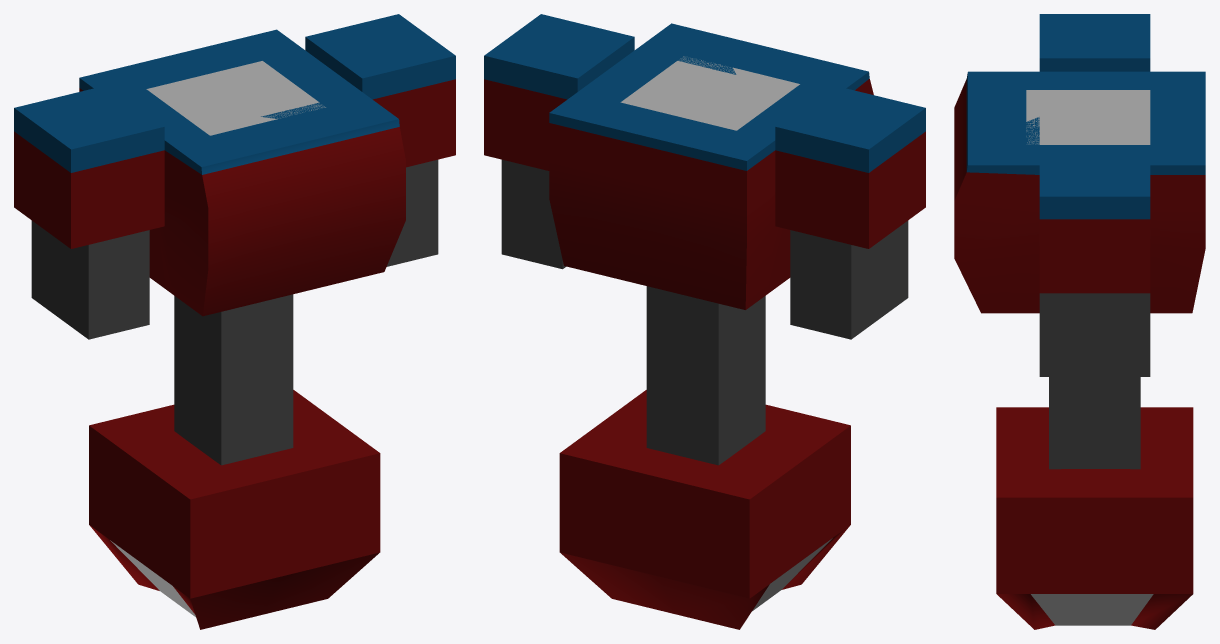
Rendered from PlayerChest.fbx.
3 views of the same model, side by side, from view 1: azimuth 30°, elevation 25°; view 2: azimuth 150°, elevation 25°; view 3: azimuth 270°, elevation 25° (orthographic). The views are drawn at different scales.
Visible parts, largest first — view 1: polySurface11; view 2: polySurface11; view 3: polySurface11.
Part boxes in pixels (box(x1,y1,x2,y2)): polySurface11: box(14, 14, 455, 629); polySurface11: box(484, 14, 925, 629); polySurface11: box(954, 14, 1205, 629).
Bounding box in the file's own units: 3.11 × 3.93 × 1.81.
